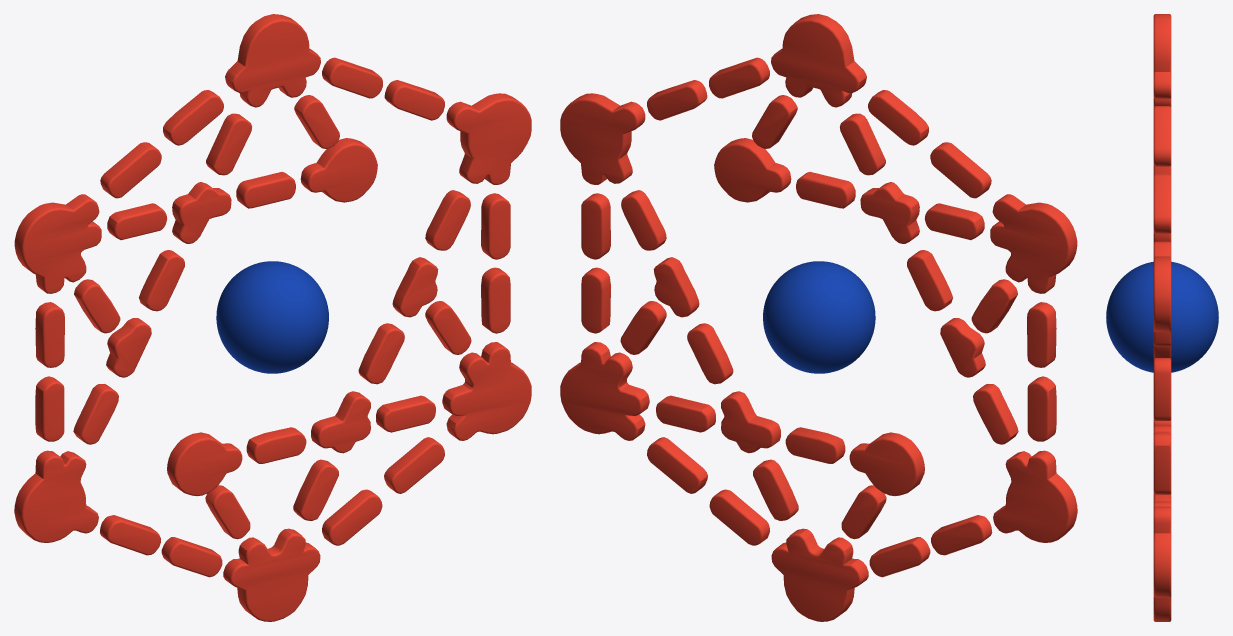
Rendered from ada.glb.
The picture shows the model from 3 angles, left to right: view 1: azimuth 30°, elevation 25°; view 2: azimuth 150°, elevation 25°; view 3: azimuth 270°, elevation 25°; orthographic projection.
Visible parts, largest first — view 1: Plane.001_baked, Sphere_Center; view 2: Plane.001_baked, Sphere_Center; view 3: Plane.001_baked, Sphere_Center.
Part boxes in pixels (x1=…): Plane.001_baked: x1=14, y1=14, x2=531, y2=621; Sphere_Center: x1=216, y1=261, x2=328, y2=373; Plane.001_baked: x1=560, y1=14, x2=1077, y2=621; Sphere_Center: x1=763, y1=261, x2=875, y2=373; Plane.001_baked: x1=1153, y1=14, x2=1171, y2=621; Sphere_Center: x1=1106, y1=261, x2=1218, y2=372.
Size of the model in its own units: 10.4 by 11.7 by 1.99.
